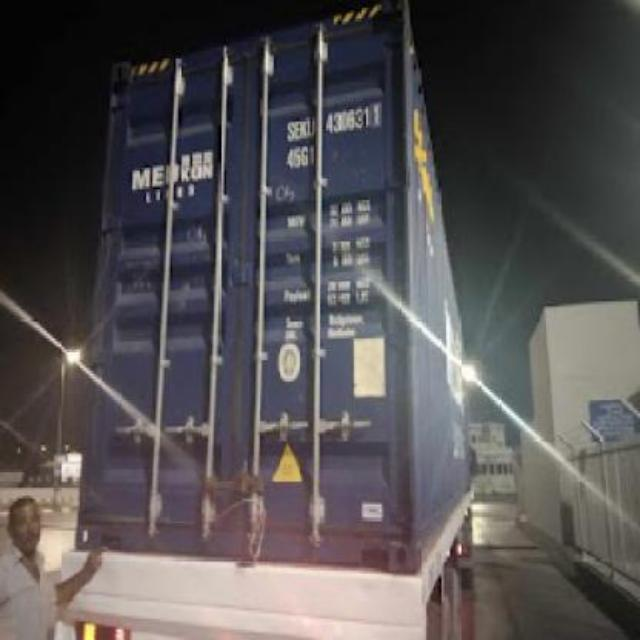0: (340, 108, 346, 136)
1: (370, 102, 382, 134), (362, 102, 370, 130)
3: (332, 106, 340, 138), (354, 99, 362, 131)
4: (322, 104, 332, 132)
6: (346, 104, 354, 136)
E: (290, 118, 300, 144)
K: (300, 115, 308, 142)
S: (286, 117, 294, 141)
U: (306, 115, 316, 142)
